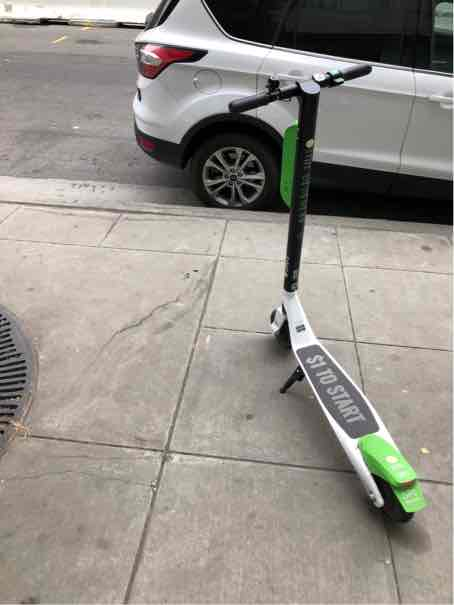scooter: (217, 59, 438, 530)
